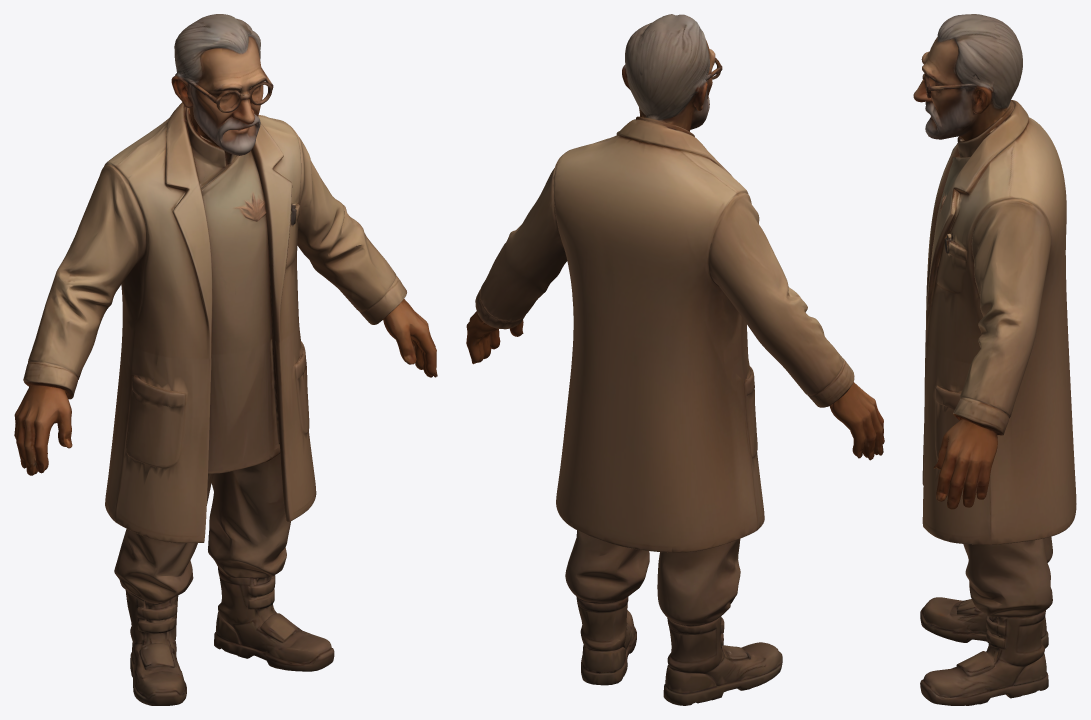
File: huxley.glb
3 renders of one model, left to right at view 1: azimuth 30°, elevation 25°; view 2: azimuth 150°, elevation 25°; view 3: azimuth 270°, elevation 25°, orthographic.
Parts seen in each view (by area): view 1: node_0; view 2: node_0; view 3: node_0.
Part boxes in pixels (x1,y1,x2,y2): node_0: [14, 14, 437, 705]; node_0: [466, 14, 884, 705]; node_0: [913, 14, 1076, 705].
Size of the model in its own units: 0.7582 by 1.15 by 0.2633.
1 material, 1 textured.
